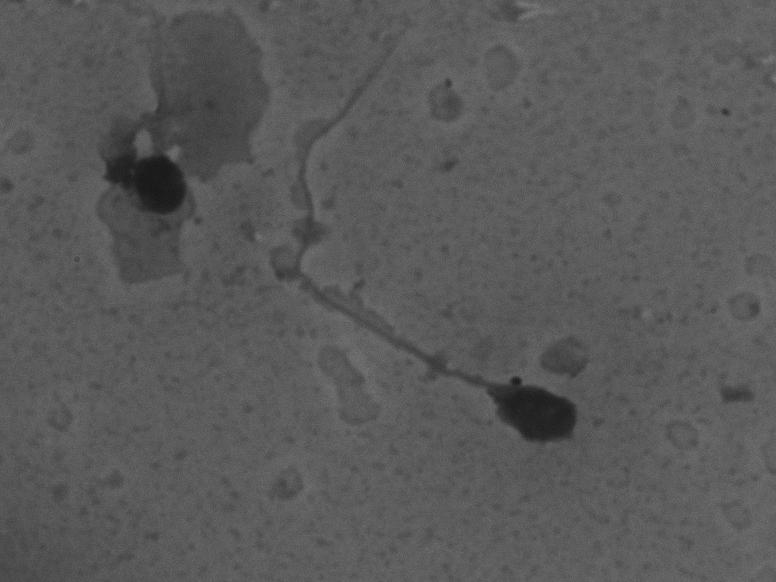Abnormal: (274, 26, 607, 485), (91, 26, 206, 251)
